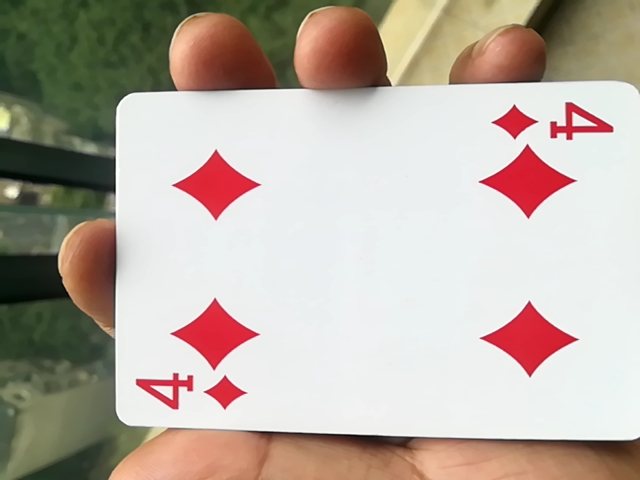fk 4: (91, 96, 636, 453)
